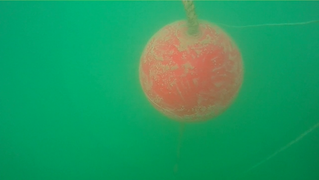buoy: (139, 19, 243, 124)
